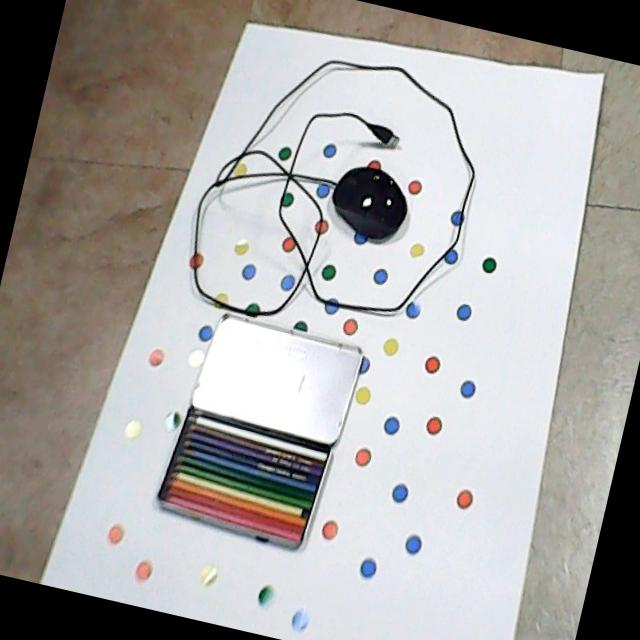color: (142, 398, 336, 558)
mouse: (311, 145, 430, 260)
